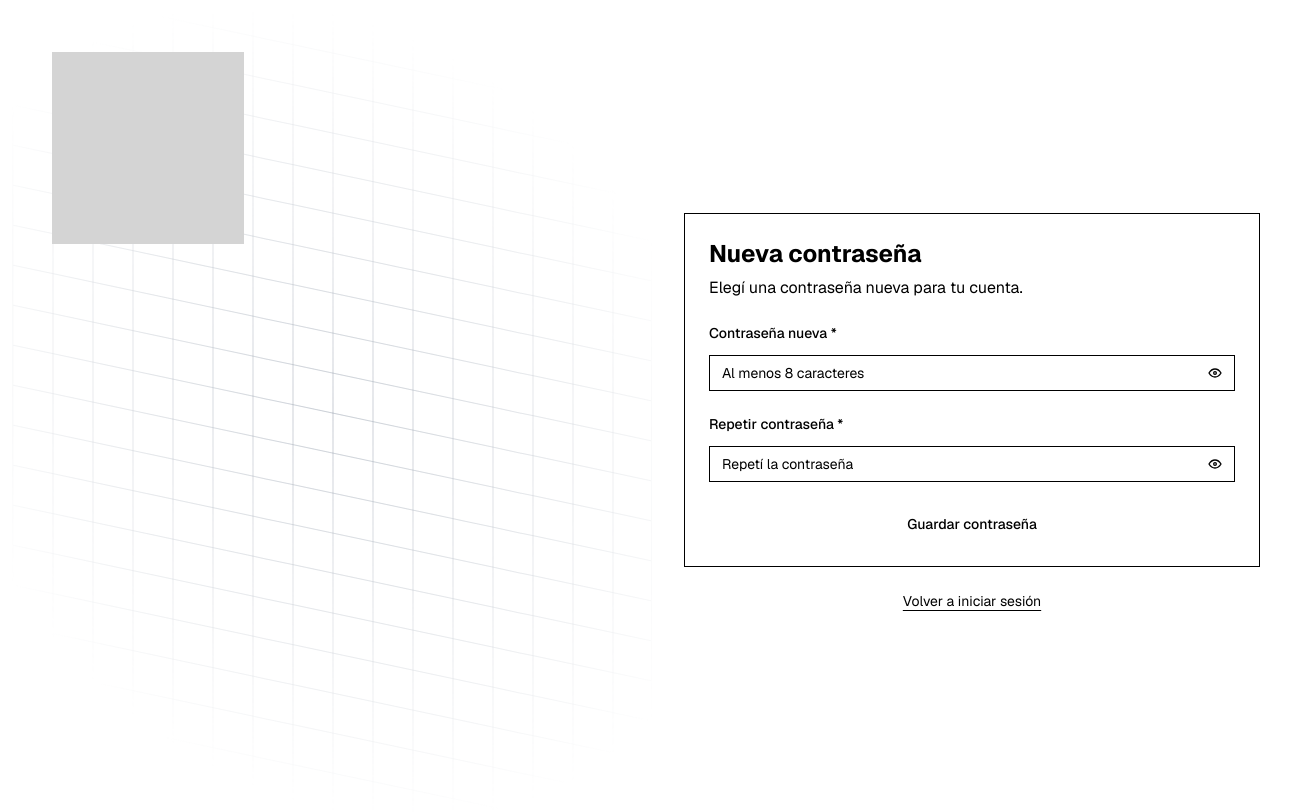
Test: ResetPasswordViewPage › renders the existing generic fallback for an ordinary DTO validation failure
Type "newpassword1" into the password field labelled "Contraseña nueva *". click: [972, 373]
box: [709, 355, 1235, 391]
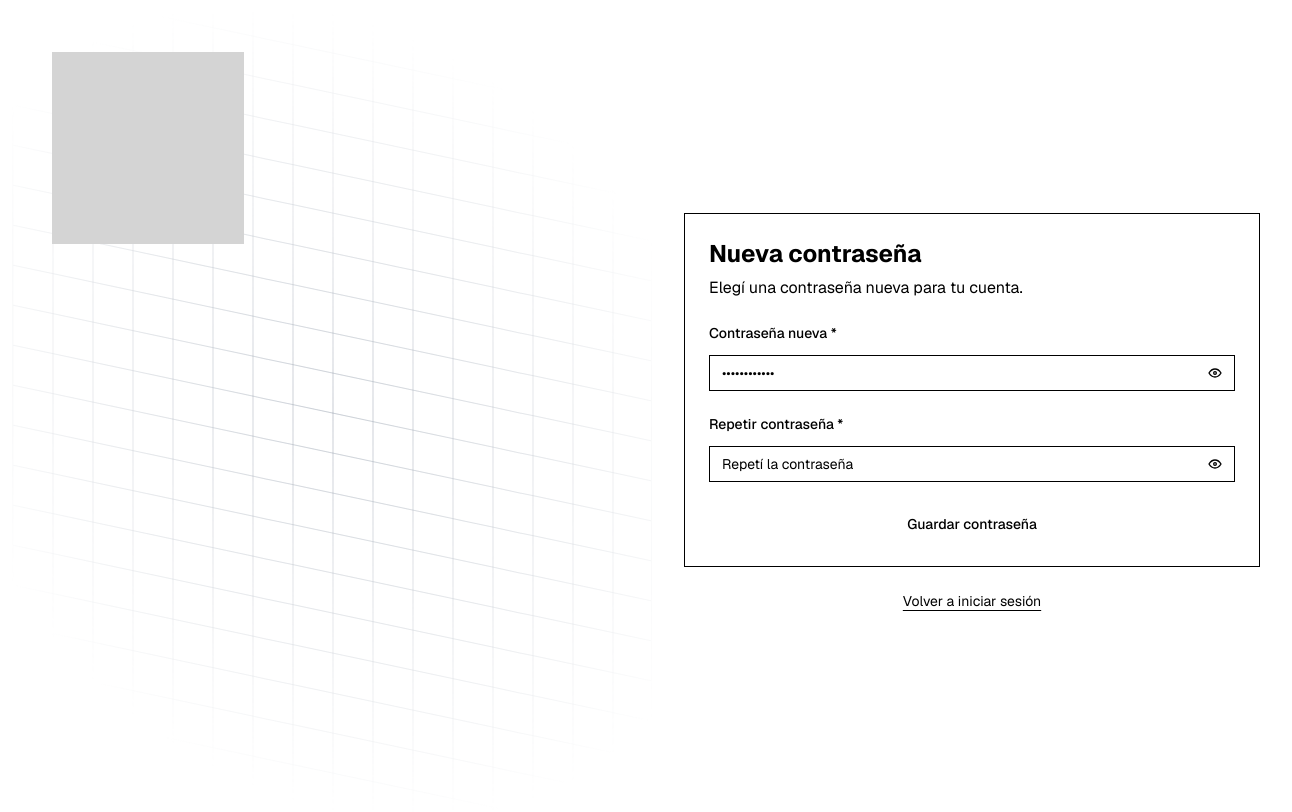
Type "newpassword1" into the password field labelled "Repetir contraseña *". click: [972, 464]
box: [709, 446, 1235, 482]
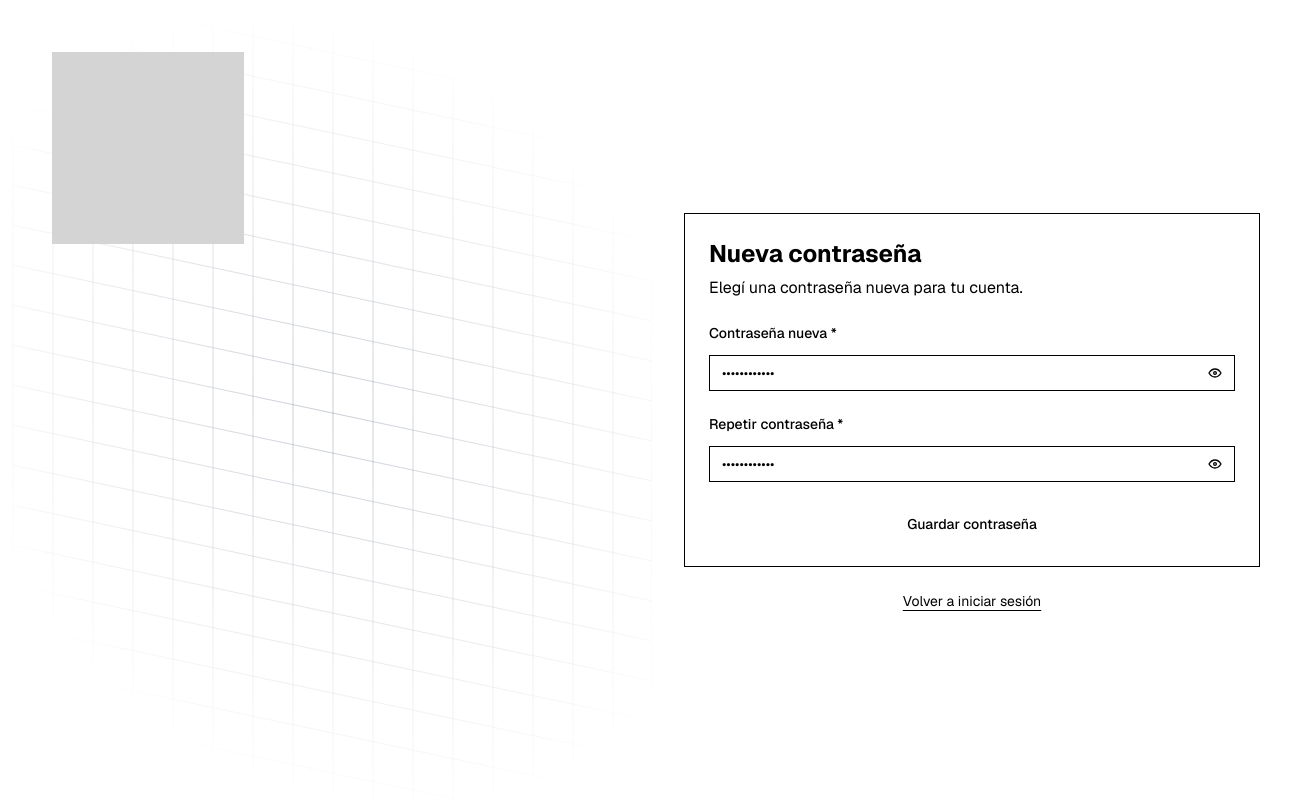
Click the button "Guardar contraseña". click: [972, 524]
box: [709, 506, 1235, 542]
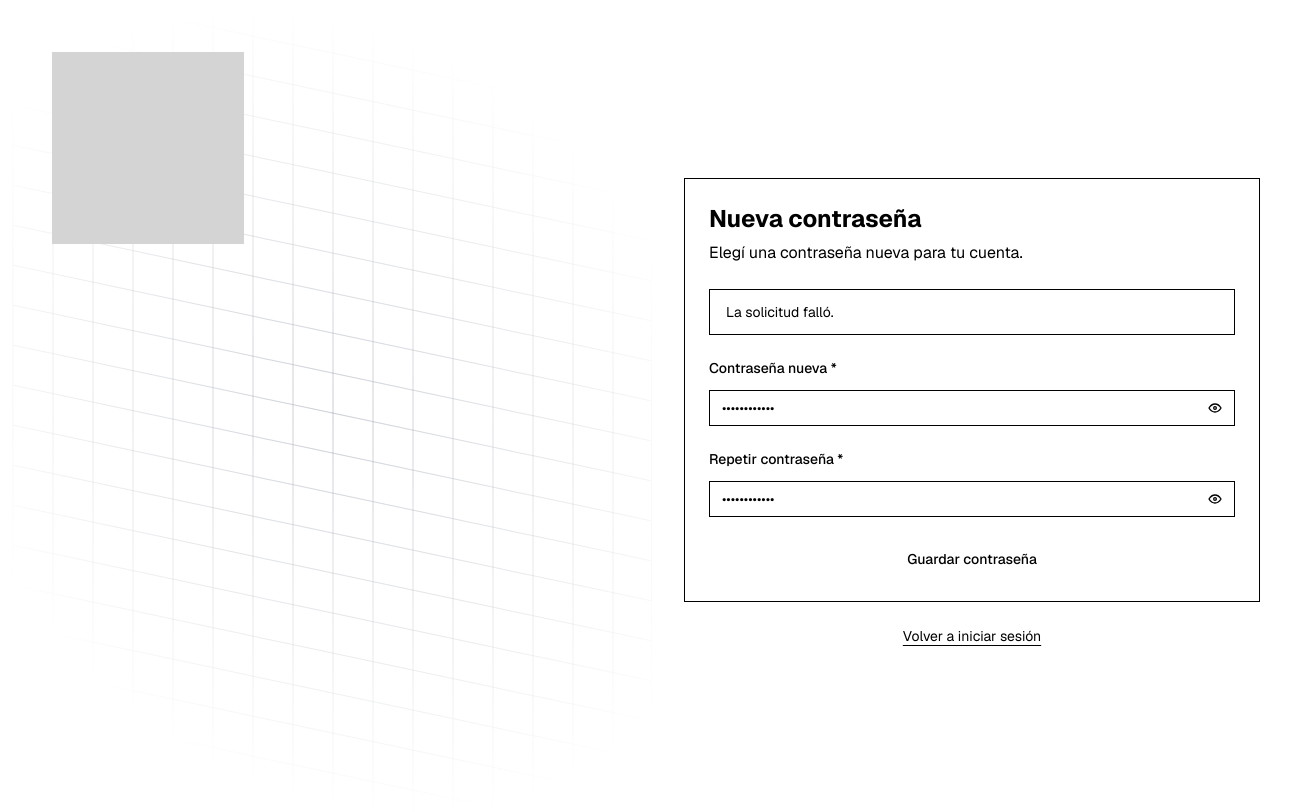
Now the text "La solicitud falló." is shown, box [726, 303, 834, 321]
